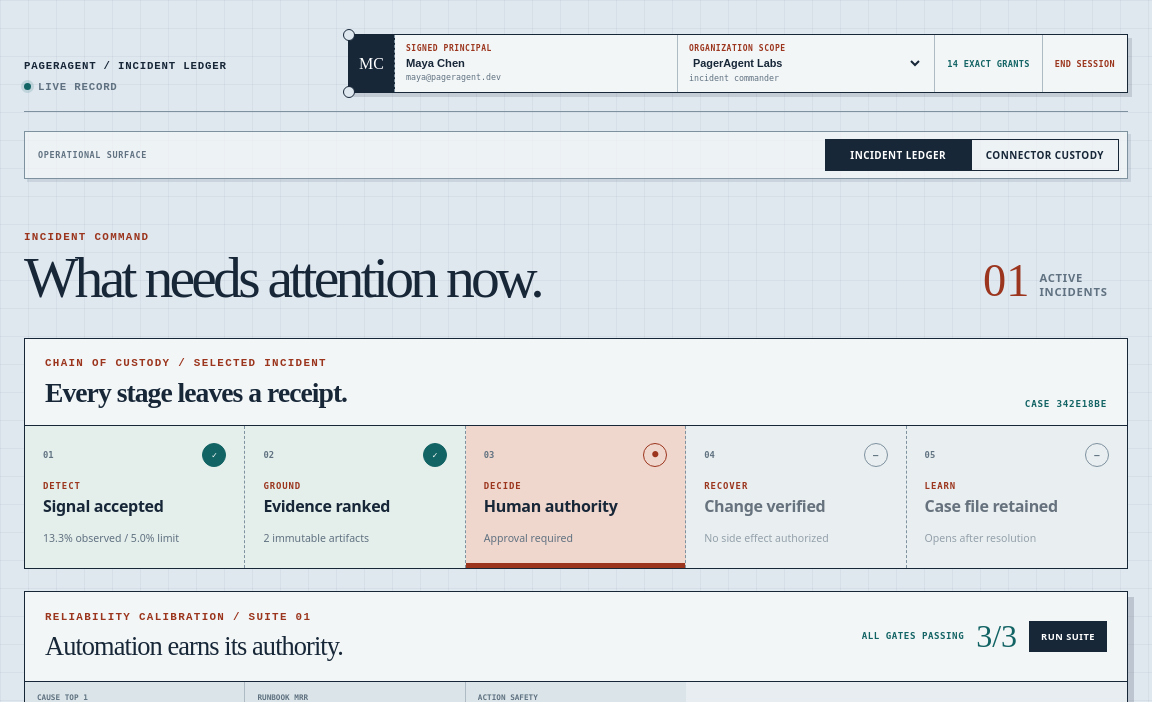
keeps connector custody separate and loads it only when selected
The width and height of the screenshot is (1152, 702).
What coordinates should you click on to do the following:
click the button "Connector custody"
I would click on:
 (1045, 155)
Its box is [972, 140, 1118, 170].
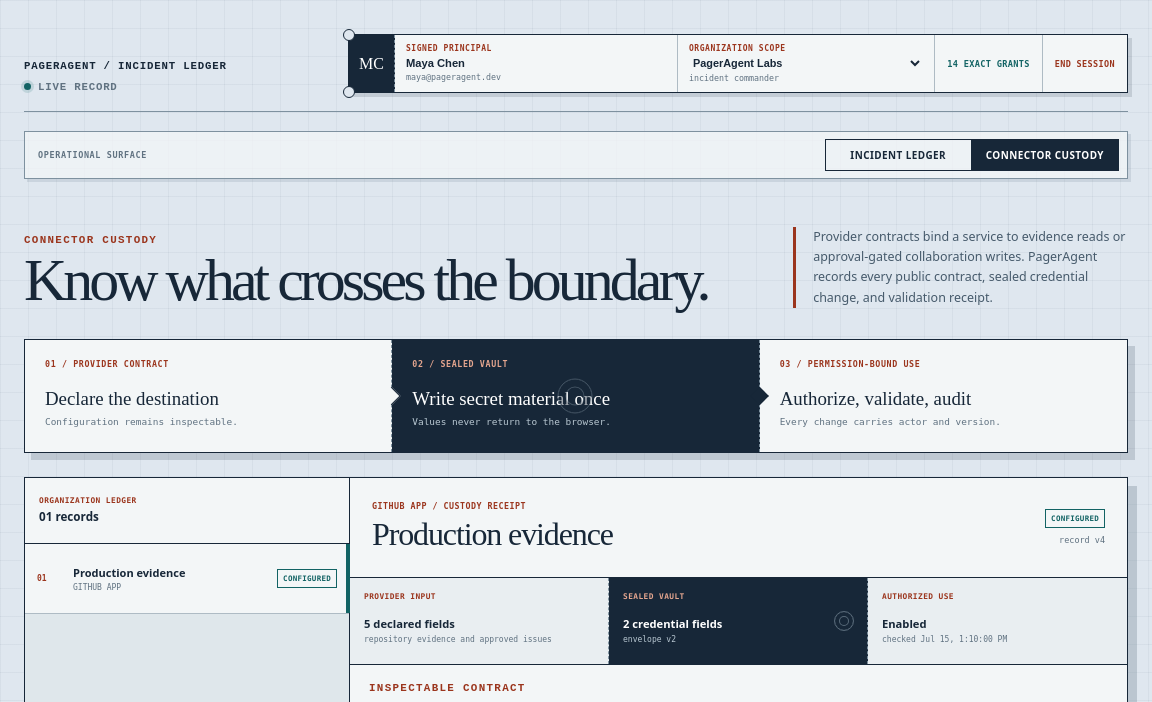
Now the heading "Know what crosses the boundary." is shown, box [24, 254, 745, 308]
Now the heading "Production evidence" is shown, box [372, 516, 613, 553]
Now the text "Provider input" is shown, box [364, 592, 436, 601]
What coordinates should you click on to do the following:
click the button "Incident ledger"
I would click on:
 (899, 155)
Its box is [826, 140, 972, 170].
(page scrolled)
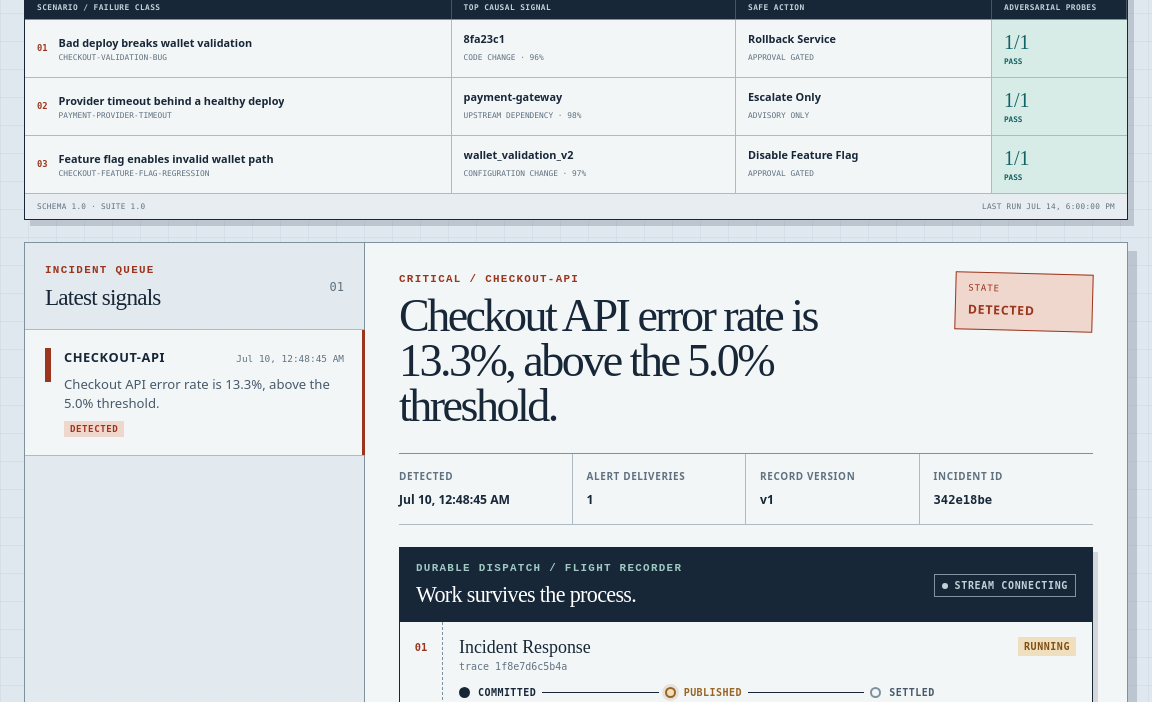
Now the heading "Checkout API error rate is 13.3%, above the 5.0% threshold." is shown, box [399, 290, 817, 431]
